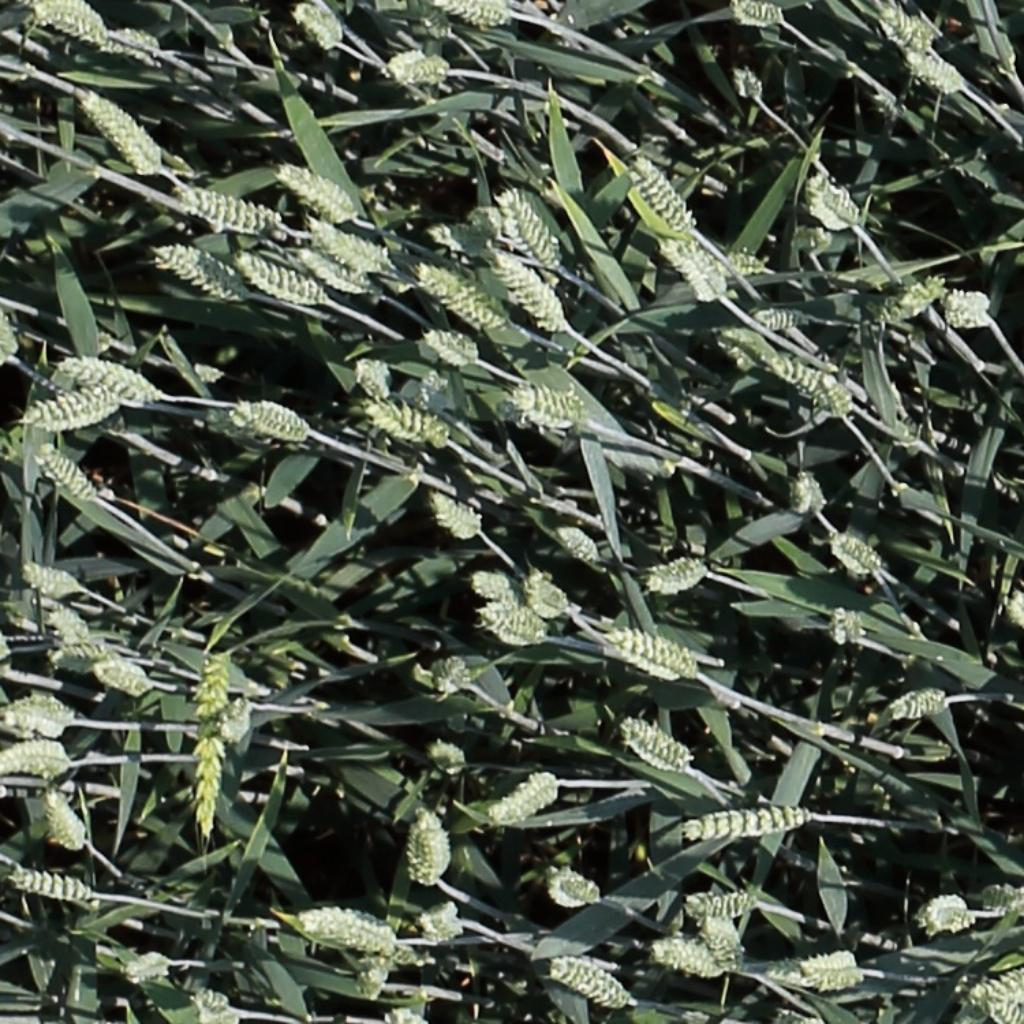0-0: (727, 331, 845, 408), (595, 622, 711, 691), (79, 87, 161, 172), (494, 243, 570, 334), (291, 901, 408, 958), (236, 251, 339, 311), (630, 148, 699, 237), (678, 802, 812, 847), (7, 391, 120, 444), (498, 184, 565, 273), (60, 357, 170, 411), (419, 262, 502, 330), (505, 370, 591, 435), (176, 185, 285, 235), (21, 0, 123, 51), (0, 692, 93, 747), (1, 861, 102, 911), (86, 20, 180, 71), (662, 232, 729, 303), (154, 244, 243, 297), (485, 771, 567, 828), (277, 161, 357, 218), (550, 955, 634, 1008), (308, 217, 391, 270), (648, 932, 729, 984), (406, 809, 455, 893), (539, 862, 616, 915), (377, 47, 459, 95), (0, 738, 85, 784), (35, 445, 99, 505), (417, 220, 506, 263), (621, 719, 694, 771), (297, 245, 375, 293), (876, 274, 950, 324), (40, 786, 90, 858), (808, 166, 865, 229), (361, 402, 449, 442), (699, 909, 748, 977), (920, 889, 977, 945), (233, 402, 314, 439), (195, 733, 222, 842), (391, 0, 456, 45), (880, 1, 935, 54), (899, 49, 966, 92), (522, 562, 571, 620), (416, 656, 479, 701), (970, 967, 1024, 1018), (479, 607, 550, 645), (196, 647, 230, 726), (117, 950, 177, 992), (430, 491, 484, 537), (350, 352, 394, 408), (420, 738, 478, 780), (831, 532, 886, 576), (817, 364, 858, 423), (683, 888, 761, 919), (931, 289, 992, 328), (472, 570, 527, 613), (292, 2, 342, 49), (412, 0, 509, 24), (357, 946, 394, 1007), (43, 605, 96, 647), (554, 522, 604, 566), (791, 465, 828, 521), (423, 329, 479, 365), (188, 983, 238, 1023), (92, 663, 151, 696), (21, 563, 81, 595), (979, 882, 1024, 921), (460, 202, 506, 240), (703, 251, 769, 276), (648, 562, 708, 589), (733, 57, 768, 103), (888, 693, 950, 718), (47, 651, 125, 670), (830, 600, 856, 655), (416, 913, 462, 942), (0, 293, 16, 367), (225, 696, 248, 746), (735, 2, 787, 24), (756, 307, 804, 326), (386, 1004, 425, 1024)
